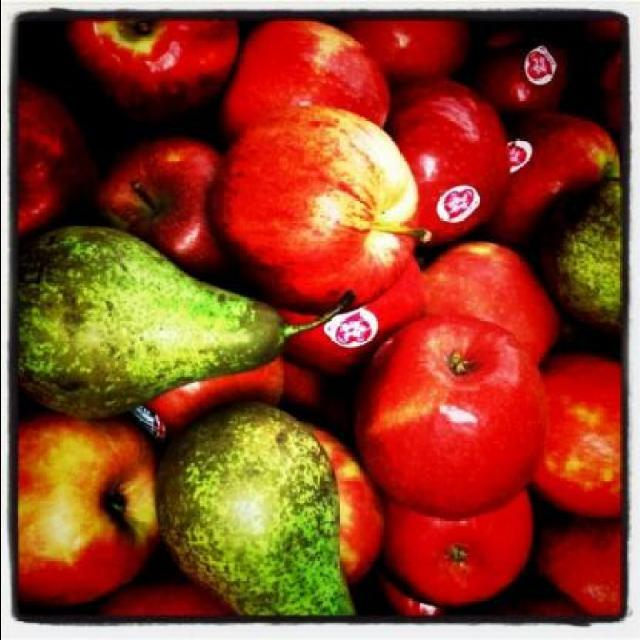Pear: (8, 225, 352, 418), (156, 400, 354, 624), (524, 177, 626, 331)
